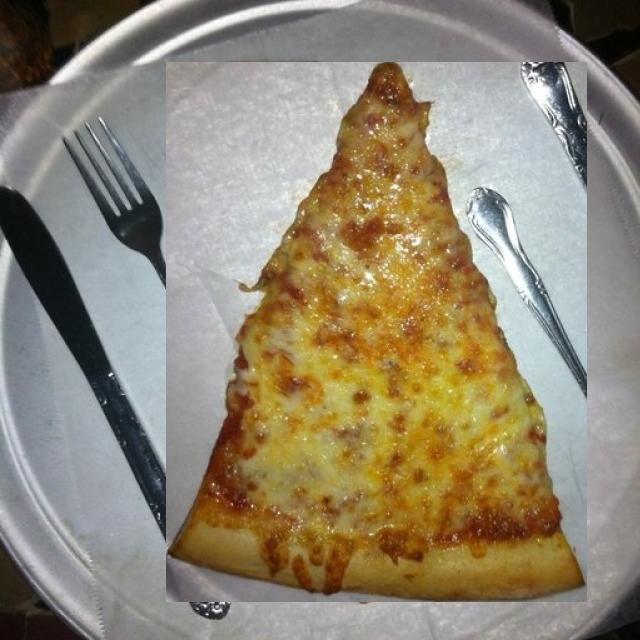pizza: (166, 62, 587, 602)
